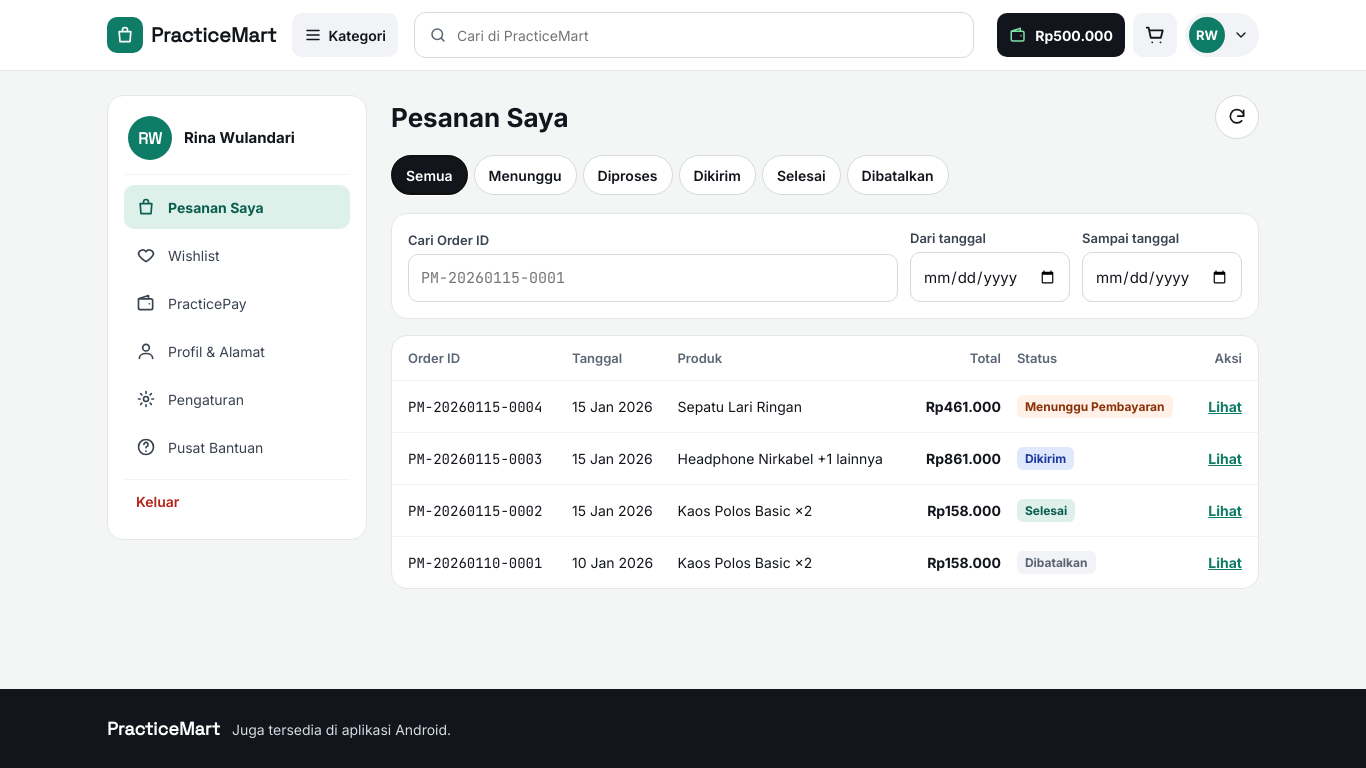
Scenario: Pesanan Saya (W-ORD-01) › tombol lain di tab tidak memindahkan tab; filter 'Dari tanggal'
Expected: the number of rows with test id "shop_item_order_row" is 4, [392,380,1258,432]; [392,432,1258,484]; [392,484,1258,536]; [392,536,1258,588]
Press Arrowdown
In the date field with test id "shop_input_order_date_from": (990, 277) [910,252,1070,302], type "2026-01-15"
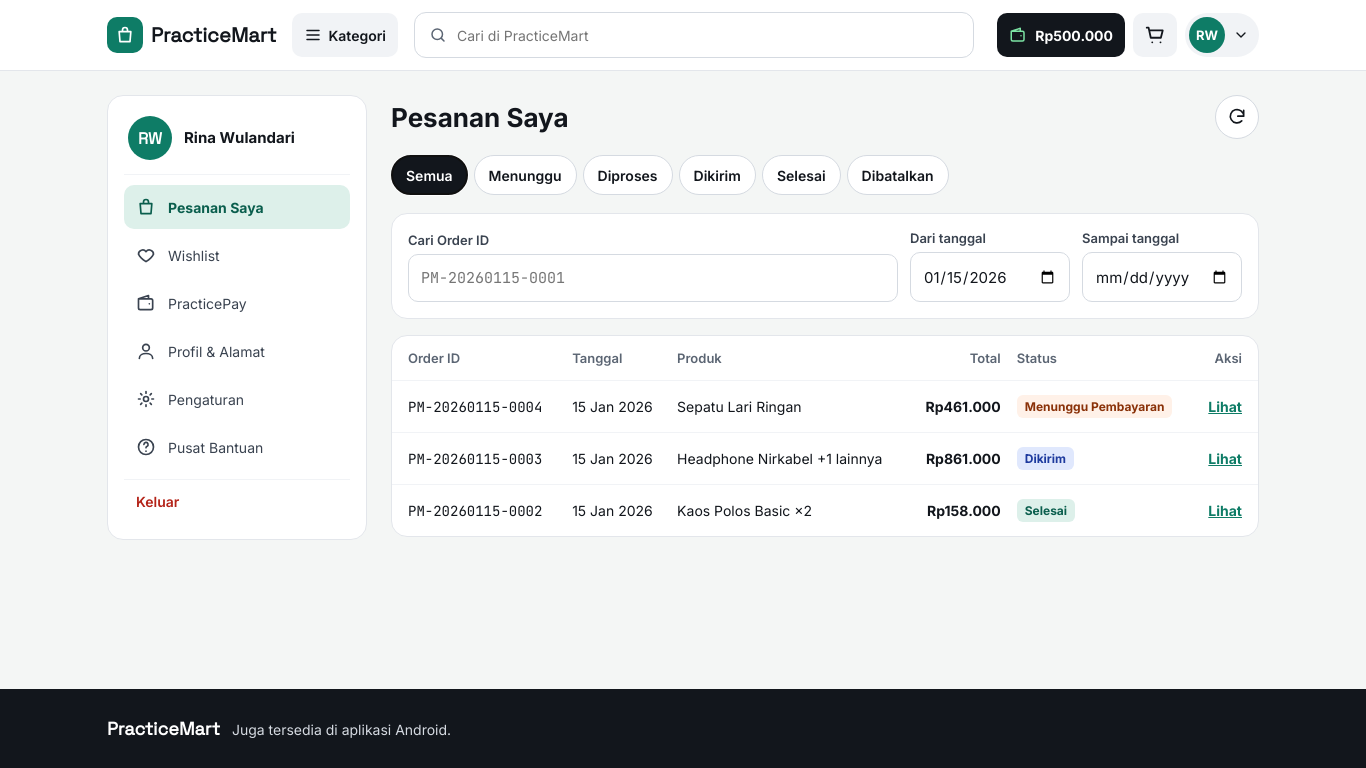
Now the number of rows with test id "shop_item_order_row" is 3, box [392,380,1258,432]; [392,432,1258,484]; [392,484,1258,536]
